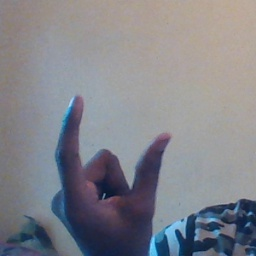U: (47, 93, 175, 255)
